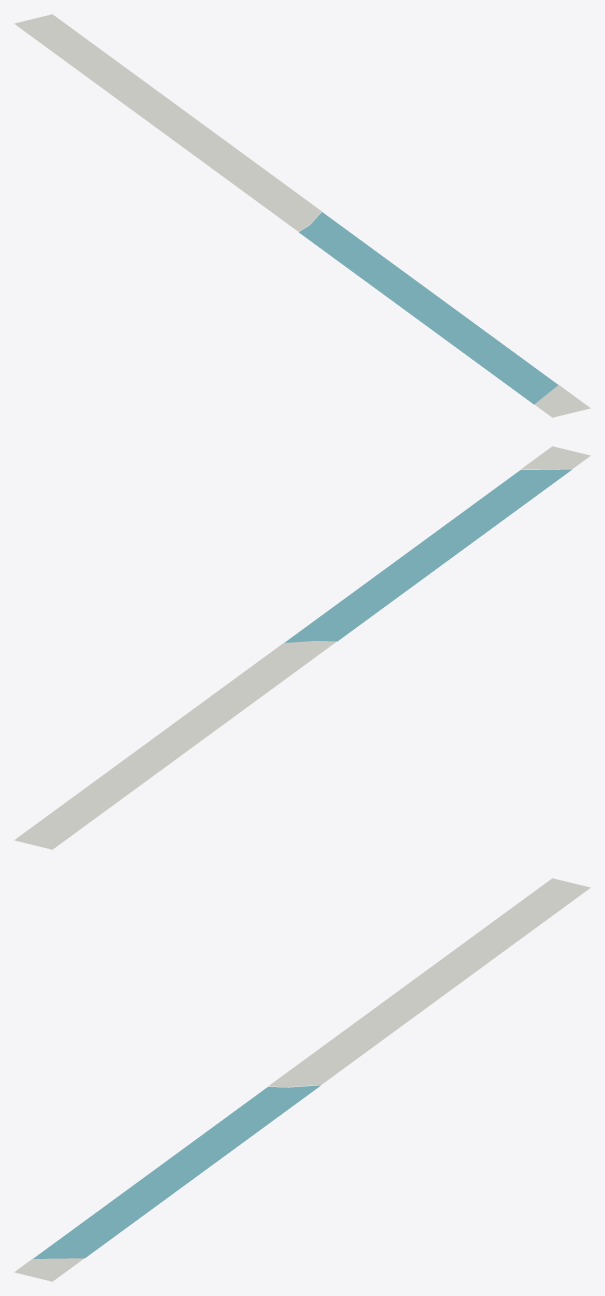
The picture shows the model from 3 angles, top to bottom: view 1: azimuth 30°, elevation 25°; view 2: azimuth 150°, elevation 25°; view 3: azimuth 330°, elevation 25°; orthographic projection.
Visible parts, largest first — view 1: city; view 2: city; view 3: city.
Part boxes in pixels (box(x1,y1,x2,y2)): city: box(14, 14, 590, 417); city: box(14, 446, 590, 849); city: box(14, 878, 590, 1281).
Bounding box in the file's own units: 20.66 × 0.18 × 500.
